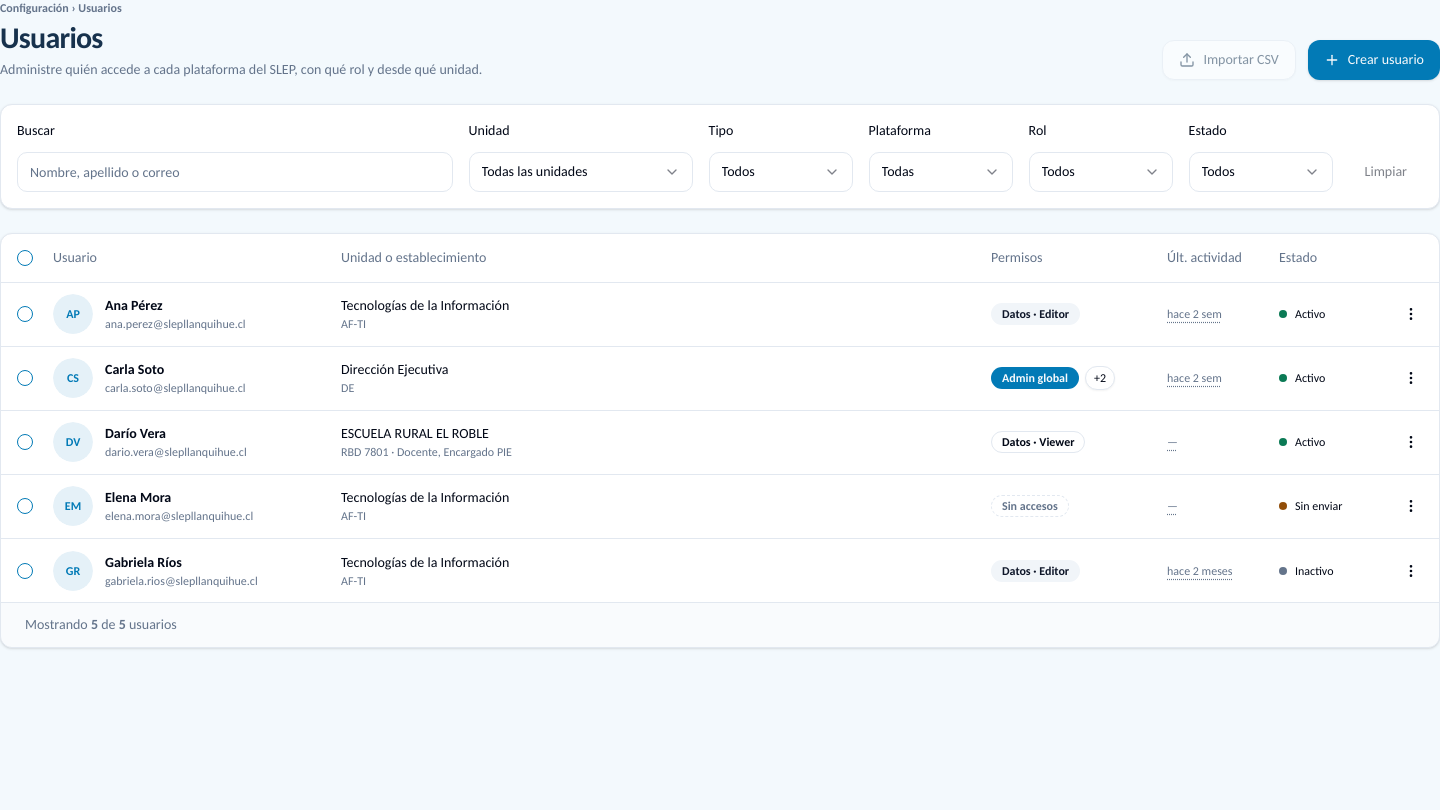
Test: FE09: editar usuario › FE09-L: usuario de establecimiento precarga el cargo y muestra «Agregar otro cargo»
Expected: the text "Darío Vera" is shown, [105, 425, 166, 442]
Click the button named "Acciones de Darío Vera" at (1411, 442), box [1391, 422, 1431, 462]
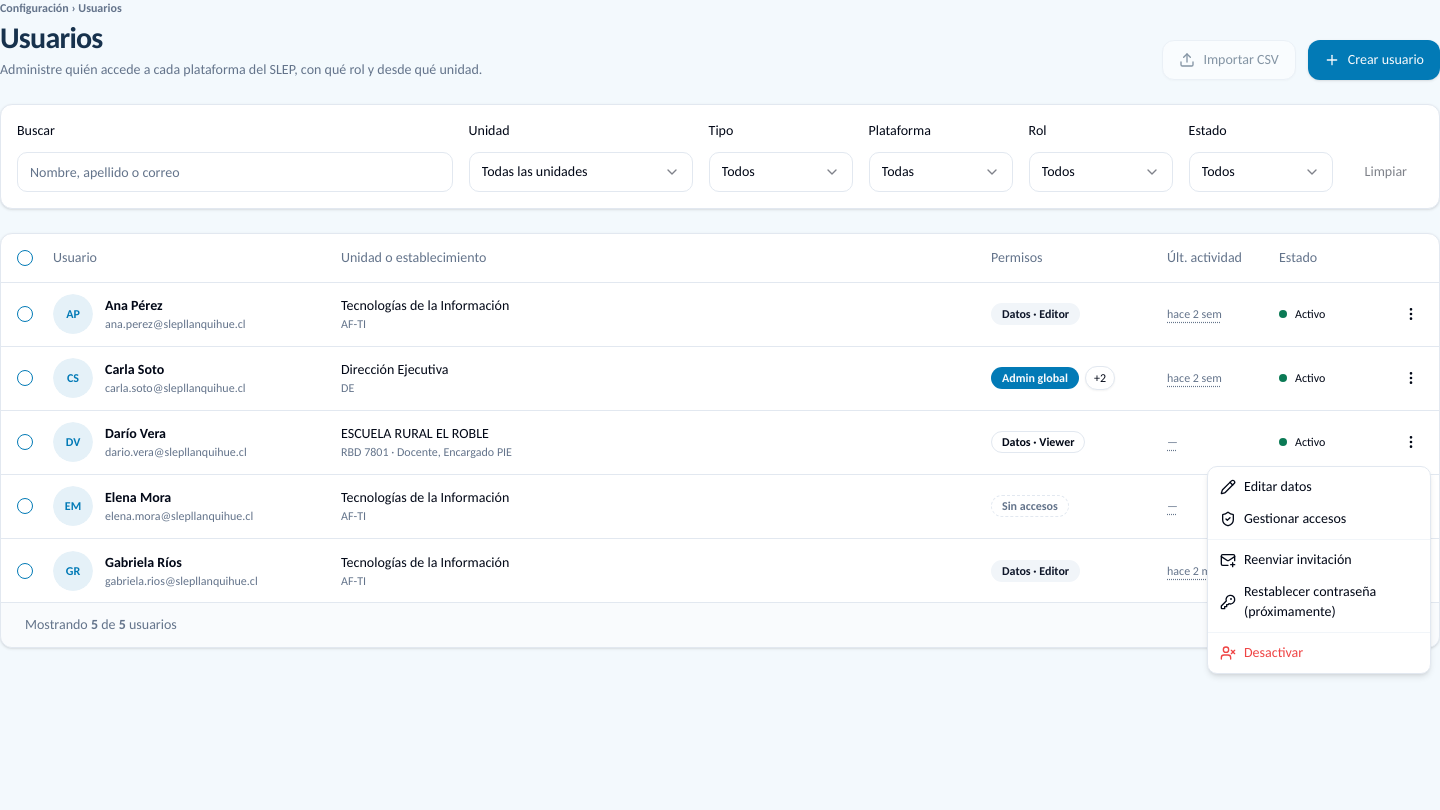
Click the menu item "Editar datos" at (1266, 486), box [1220, 478, 1312, 495]
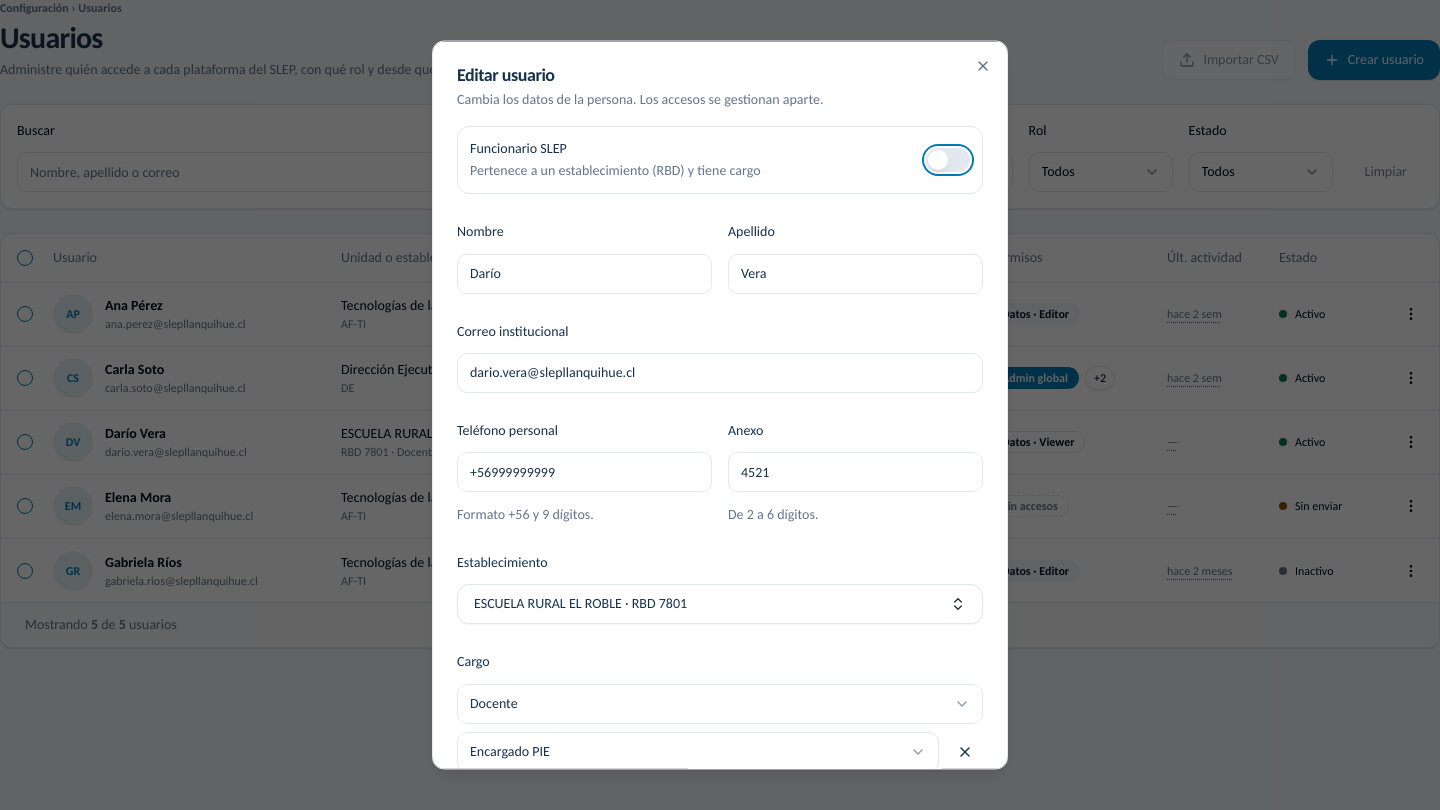
Expected: the switch named "Funcionario SLEP" is not checked, [926, 148, 970, 172]
Expected: the dropdown named "Cargo 1" reads "Docente", [457, 683, 983, 723]
Expected: the dropdown named "Cargo 2" reads "Encargado PIE", [457, 731, 939, 770]
